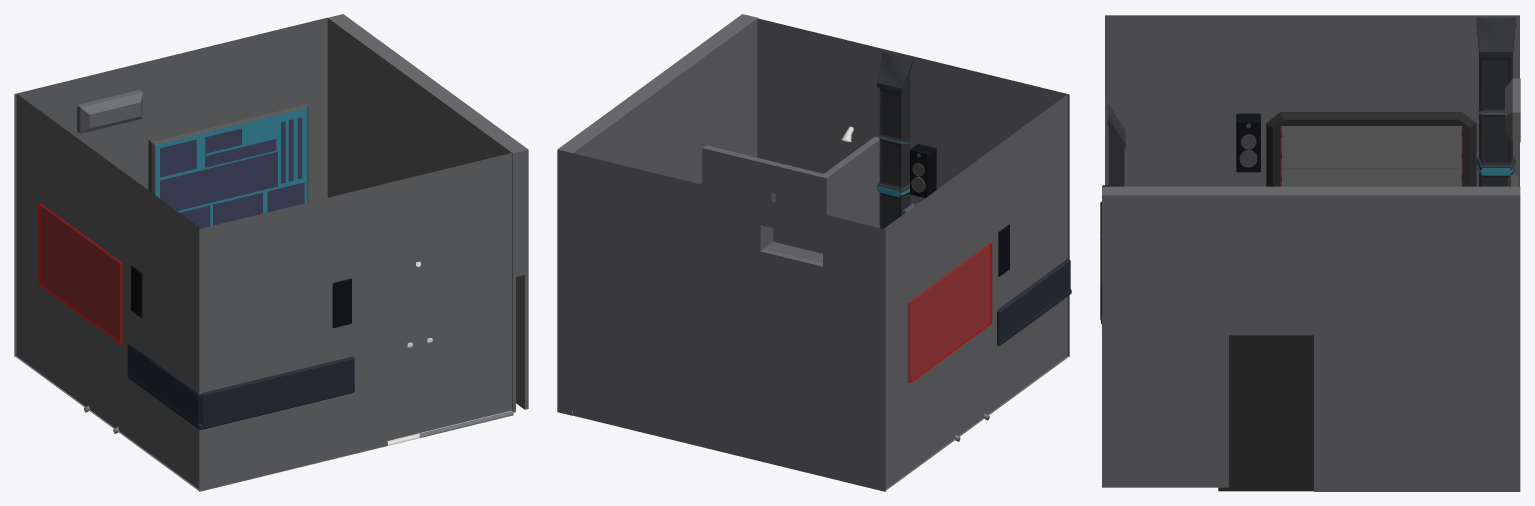
The model's file is Room22052018.fbx.
3 renders of one model, left to right at view 1: azimuth 30°, elevation 25°; view 2: azimuth 150°, elevation 25°; view 3: azimuth 270°, elevation 25°, orthographic. The views are drawn at different scales.
Visible parts, largest first — view 1: wall1, wall4, wall3, doorWall, windowLightRed, planningBoard, deskwall2, PBE4, deskwall3, floor, bathroomWall1, PBE1 (+7 smaller); view 2: wall3, wall4, wall1, doorWall, windowLightRed, Beam, bathroomWall2, bathroomWall1, deskwall3, speaker2, speaker1; view 3: doorWall, wall4, slideDoor, Beam1, windowFrame, shutter2, shutter1, shutter3, speaker1, Beam, wall3.
Boxes of the visible parts, x1,y1,x2,y2 form: wall1: [199, 152, 512, 491]; wall4: [16, 94, 200, 489]; wall3: [14, 17, 327, 356]; doorWall: [327, 14, 528, 412]; windowLightRed: [38, 203, 122, 343]; planningBoard: [148, 102, 308, 226]; deskwall2: [200, 356, 354, 425]; PBE4: [160, 152, 277, 210]; deskwall3: [127, 342, 200, 424]; floor: [15, 356, 513, 491]; bathroomWall1: [387, 271, 394, 440]; PBE1: [160, 139, 196, 177]; wall3: [572, 153, 885, 491]; wall4: [884, 94, 1067, 488]; wall1: [757, 18, 1069, 356]; doorWall: [557, 14, 757, 415]; windowLightRed: [908, 243, 992, 383]; Beam: [877, 52, 912, 228]; bathroomWall2: [702, 145, 823, 204]; bathroomWall1: [820, 136, 879, 227]; deskwall3: [997, 258, 1070, 341]; speaker2: [910, 144, 936, 198]; speaker1: [998, 224, 1009, 276]; doorWall: [1102, 186, 1520, 491]; wall4: [1105, 15, 1519, 186]; slideDoor: [1218, 335, 1313, 491]; Beam1: [1476, 17, 1515, 186]; windowFrame: [1266, 112, 1476, 186]; shutter2: [1282, 146, 1461, 168]; shutter1: [1282, 126, 1461, 146]; shutter3: [1282, 168, 1461, 186]; speaker1: [1236, 113, 1260, 172]; Beam: [1107, 103, 1125, 186]; wall3: [1505, 78, 1520, 142].
Bounding box in the file's own units: 526 × 404 × 514.
